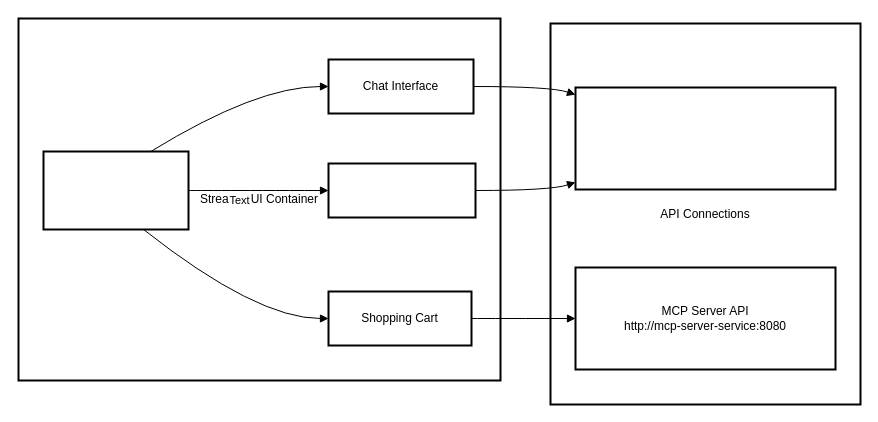
Image size: 878x422. Some labels were removed from this diagram. The shapes that lost their labels are listed below. From the top down, each one's box as (x1, y1, x2, y2) in pixels, then its label:
(574, 86, 836, 190): ADK Agents API http://adk-agents-service:8000
(42, 150, 189, 230): Web Interface Streamlit App
(327, 162, 476, 218): Product Search
